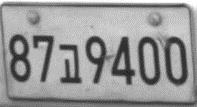0: (164, 36, 188, 85), (137, 36, 160, 85)
4: (110, 35, 135, 85)
7: (31, 34, 54, 82)
8: (8, 33, 31, 81)
9: (84, 35, 106, 84)
고: (58, 43, 81, 83)
